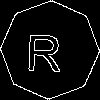R: (25, 25, 63, 72)
